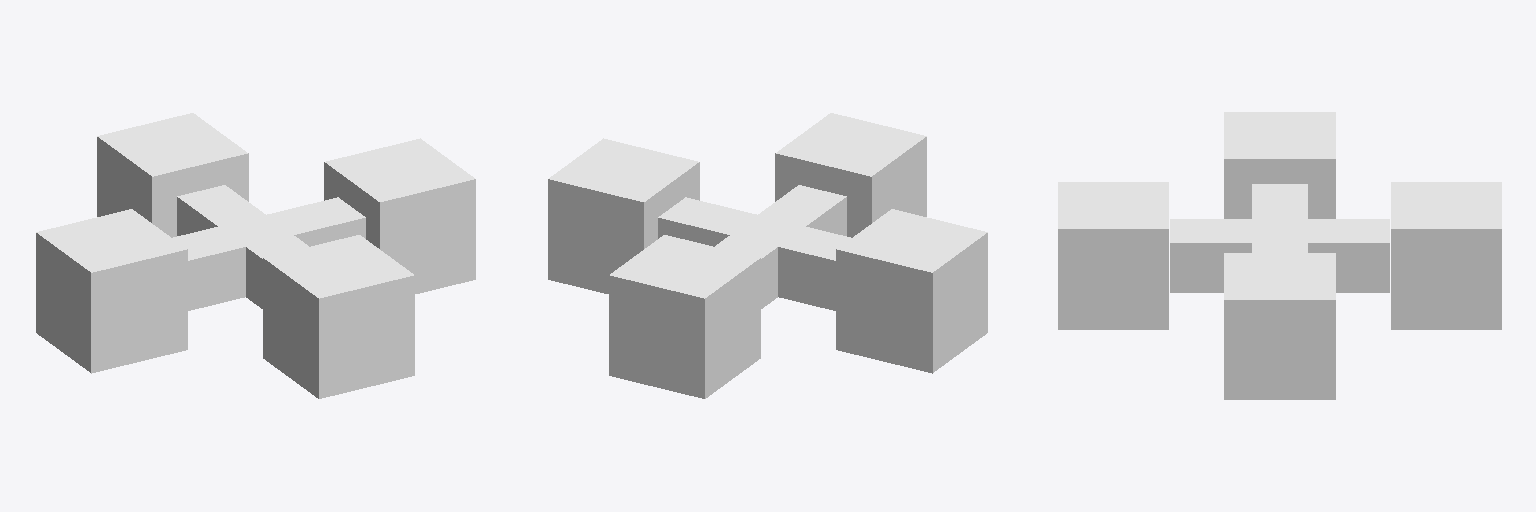
The model's file is ico_sphere.obj.
The picture shows the model from 3 angles: view 1: azimuth 30°, elevation 25°; view 2: azimuth 150°, elevation 25°; view 3: azimuth 270°, elevation 25°; orthographic projection.
Visible parts, largest first — view 1: Cube; view 2: Cube; view 3: Cube.
Part boxes in pixels (bbox=[...]): Cube: bbox=[36, 113, 475, 398]; Cube: bbox=[548, 113, 987, 398]; Cube: bbox=[1058, 112, 1501, 399].
Size of the model in its own units: 1.6 by 0.4 by 1.6.